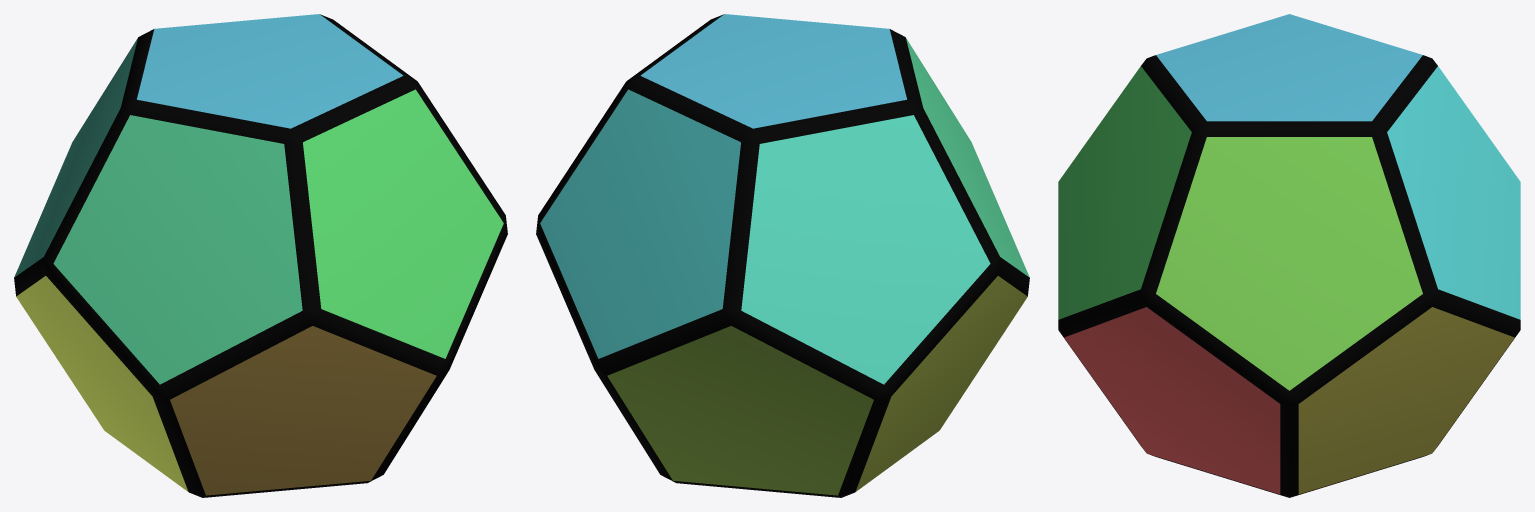
The picture shows the model from 3 angles, left to right: view 1: azimuth 30°, elevation 25°; view 2: azimuth 150°, elevation 25°; view 3: azimuth 270°, elevation 25°; orthographic projection. The views are drawn at different scales.
Parts seen in each view (by area): view 1: D12; view 2: D12; view 3: D12.
Boxes of the visible parts, x1=… form: D12: x1=14, y1=14, x2=507, y2=497; D12: x1=536, y1=14, x2=1029, y2=497; D12: x1=1058, y1=14, x2=1520, y2=497.
Bounding box in the file's own units: 111 × 92.18 × 106.
